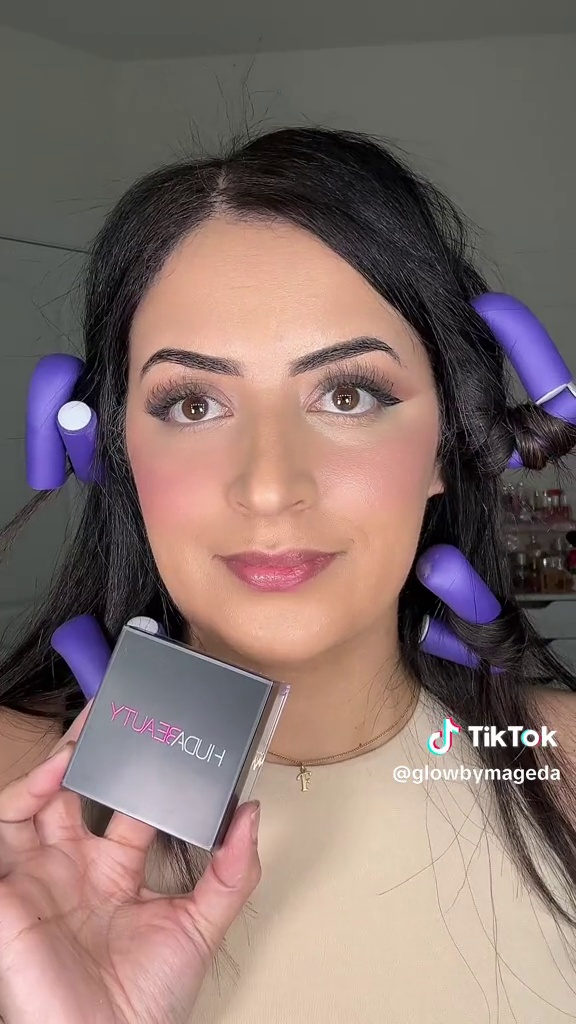train' :'yolo_data/train/images',: (52, 613, 300, 860)
